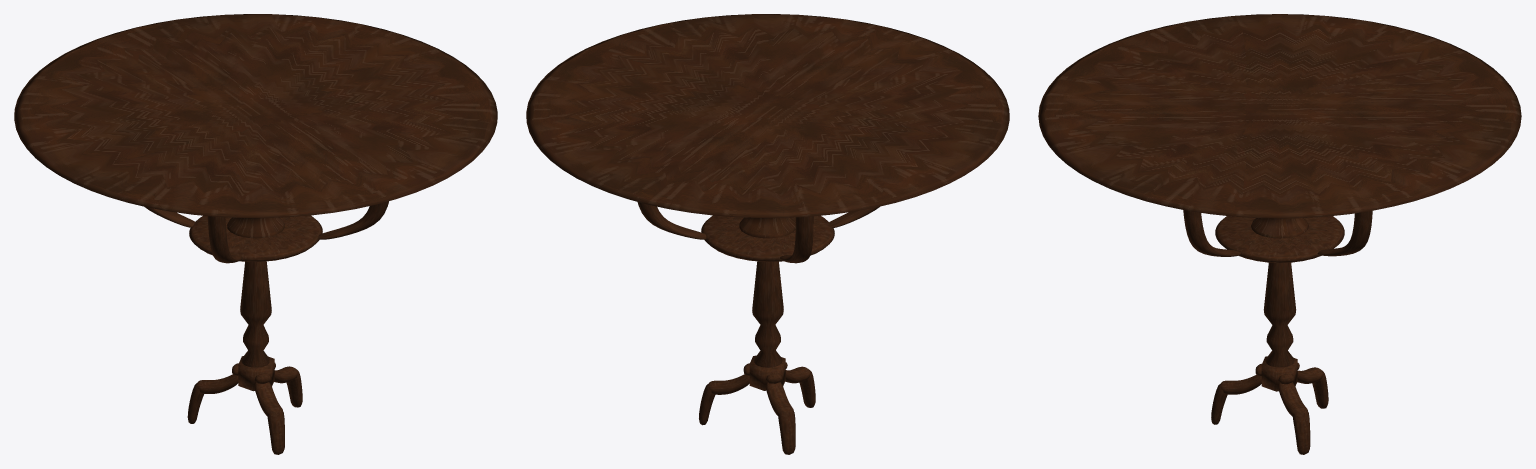
Rendered from stolik.fbx.
The picture shows the model from 3 angles, left to right: view 1: azimuth 30°, elevation 25°; view 2: azimuth 150°, elevation 25°; view 3: azimuth 270°, elevation 25°; orthographic projection.
Parts seen in each view (by area): view 1: Walec, Walec.006, Walec.007, Walec.008, Walec.005, Walec.004, Walec.011, Kostka.001, Kostka, Kostka.005; view 2: Walec, Walec.006, Walec.007, Walec.008, Walec.009, Walec.003, Walec.011, Kostka.004, Kostka.005, Kostka.003; view 3: Walec, Walec.006, Walec.007, Walec.008, Walec.004, Walec.003, Walec.011, Kostka.002, Kostka.003, Kostka.
Boxes of the visible parts, x1=… form: Walec: x1=14, y1=14, x2=497, y2=218; Walec.006: x1=189, y1=215, x2=322, y2=261; Walec.007: x1=240, y1=261, x2=271, y2=367; Walec.008: x1=227, y1=217, x2=284, y2=238; Walec.005: x1=207, y1=216, x2=242, y2=263; Walec.004: x1=318, y1=201, x2=388, y2=239; Walec.011: x1=238, y1=356, x2=274, y2=391; Kostka.001: x1=267, y1=410, x2=284, y2=454; Kostka: x1=255, y1=382, x2=282, y2=416; Kostka.005: x1=197, y1=374, x2=238, y2=393; Walec: x1=526, y1=14, x2=1009, y2=217; Walec.006: x1=701, y1=215, x2=834, y2=261; Walec.007: x1=752, y1=261, x2=783, y2=367; Walec.008: x1=739, y1=217, x2=795, y2=238; Walec.009: x1=780, y1=216, x2=813, y2=263; Walec.003: x1=637, y1=202, x2=706, y2=239; Walec.011: x1=749, y1=355, x2=785, y2=390; Kostka.004: x1=778, y1=410, x2=795, y2=454; Kostka.005: x1=766, y1=382, x2=793, y2=415; Kostka.003: x1=708, y1=374, x2=749, y2=394; Walec: x1=1038, y1=14, x2=1521, y2=218; Walec.006: x1=1215, y1=216, x2=1344, y2=262; Walec.007: x1=1263, y1=262, x2=1296, y2=367; Walec.008: x1=1251, y1=218, x2=1308, y2=238; Walec.004: x1=1183, y1=210, x2=1241, y2=256; Walec.003: x1=1317, y1=210, x2=1372, y2=256; Walec.011: x1=1261, y1=356, x2=1297, y2=391; Kostka.002: x1=1292, y1=410, x2=1310, y2=454; Kostka.003: x1=1278, y1=382, x2=1307, y2=416; Kostka: x1=1220, y1=375, x2=1261, y2=394.
Size of the model in its own units: 364 by 265 by 363.
